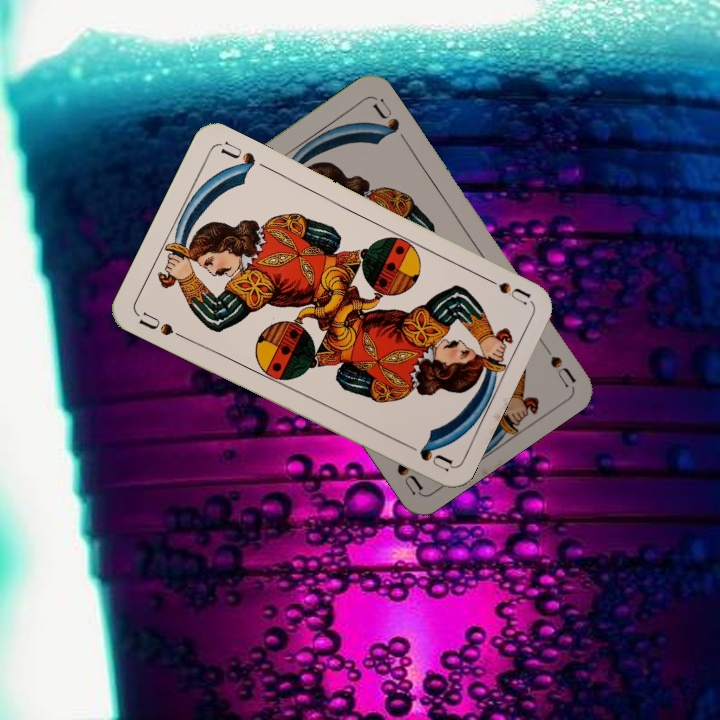SU: (535, 335, 578, 389), (476, 270, 533, 308), (134, 307, 189, 342)
